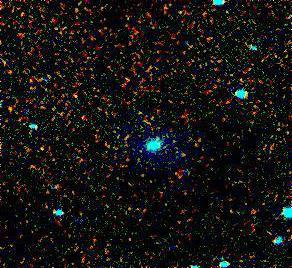star: (161, 163, 191, 193)
